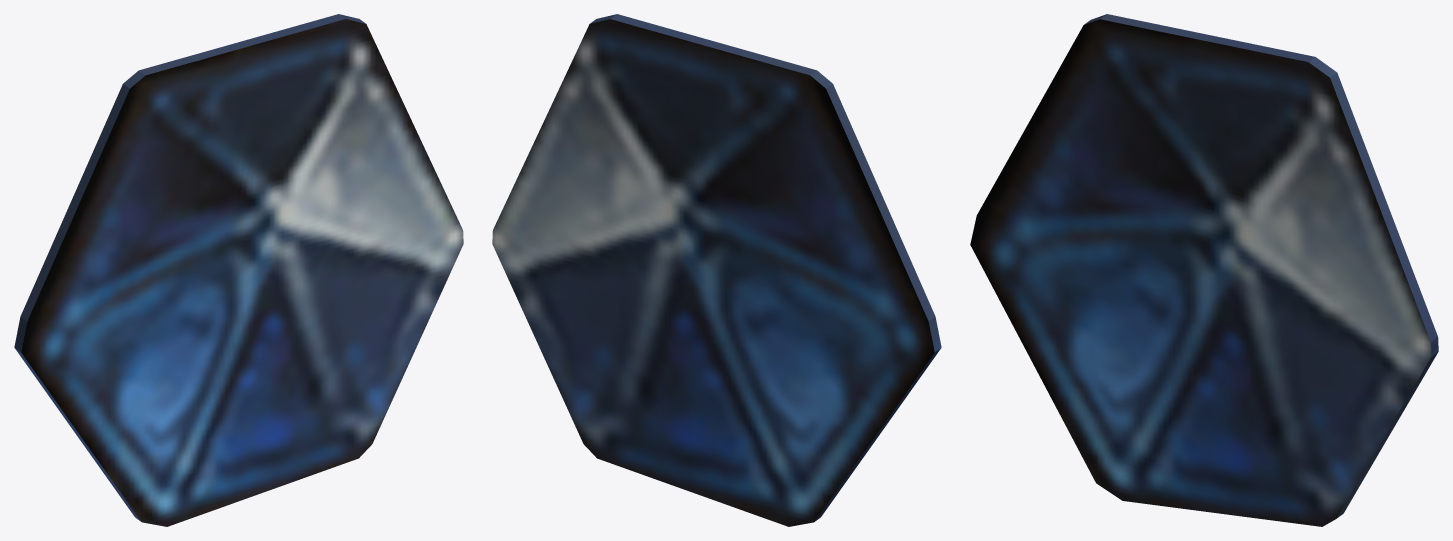
The model's file is Mana.glb.
3 views of the same model, side by side, from view 1: azimuth 30°, elevation 25°; view 2: azimuth 150°, elevation 25°; view 3: azimuth 330°, elevation 25° (orthographic). The views are drawn at different scales.
Parts seen in each view (by area): view 1: Circle.002; view 2: Circle.002; view 3: Circle.002.
Part boxes in pixels (box(x1,y1,x2,y2)): Circle.002: box(14, 14, 463, 526); Circle.002: box(492, 14, 941, 526); Circle.002: box(970, 14, 1438, 526).
Bounding box in the file's own units: 2.24 × 2.25 × 0.0606.
1 material, 1 textured.
